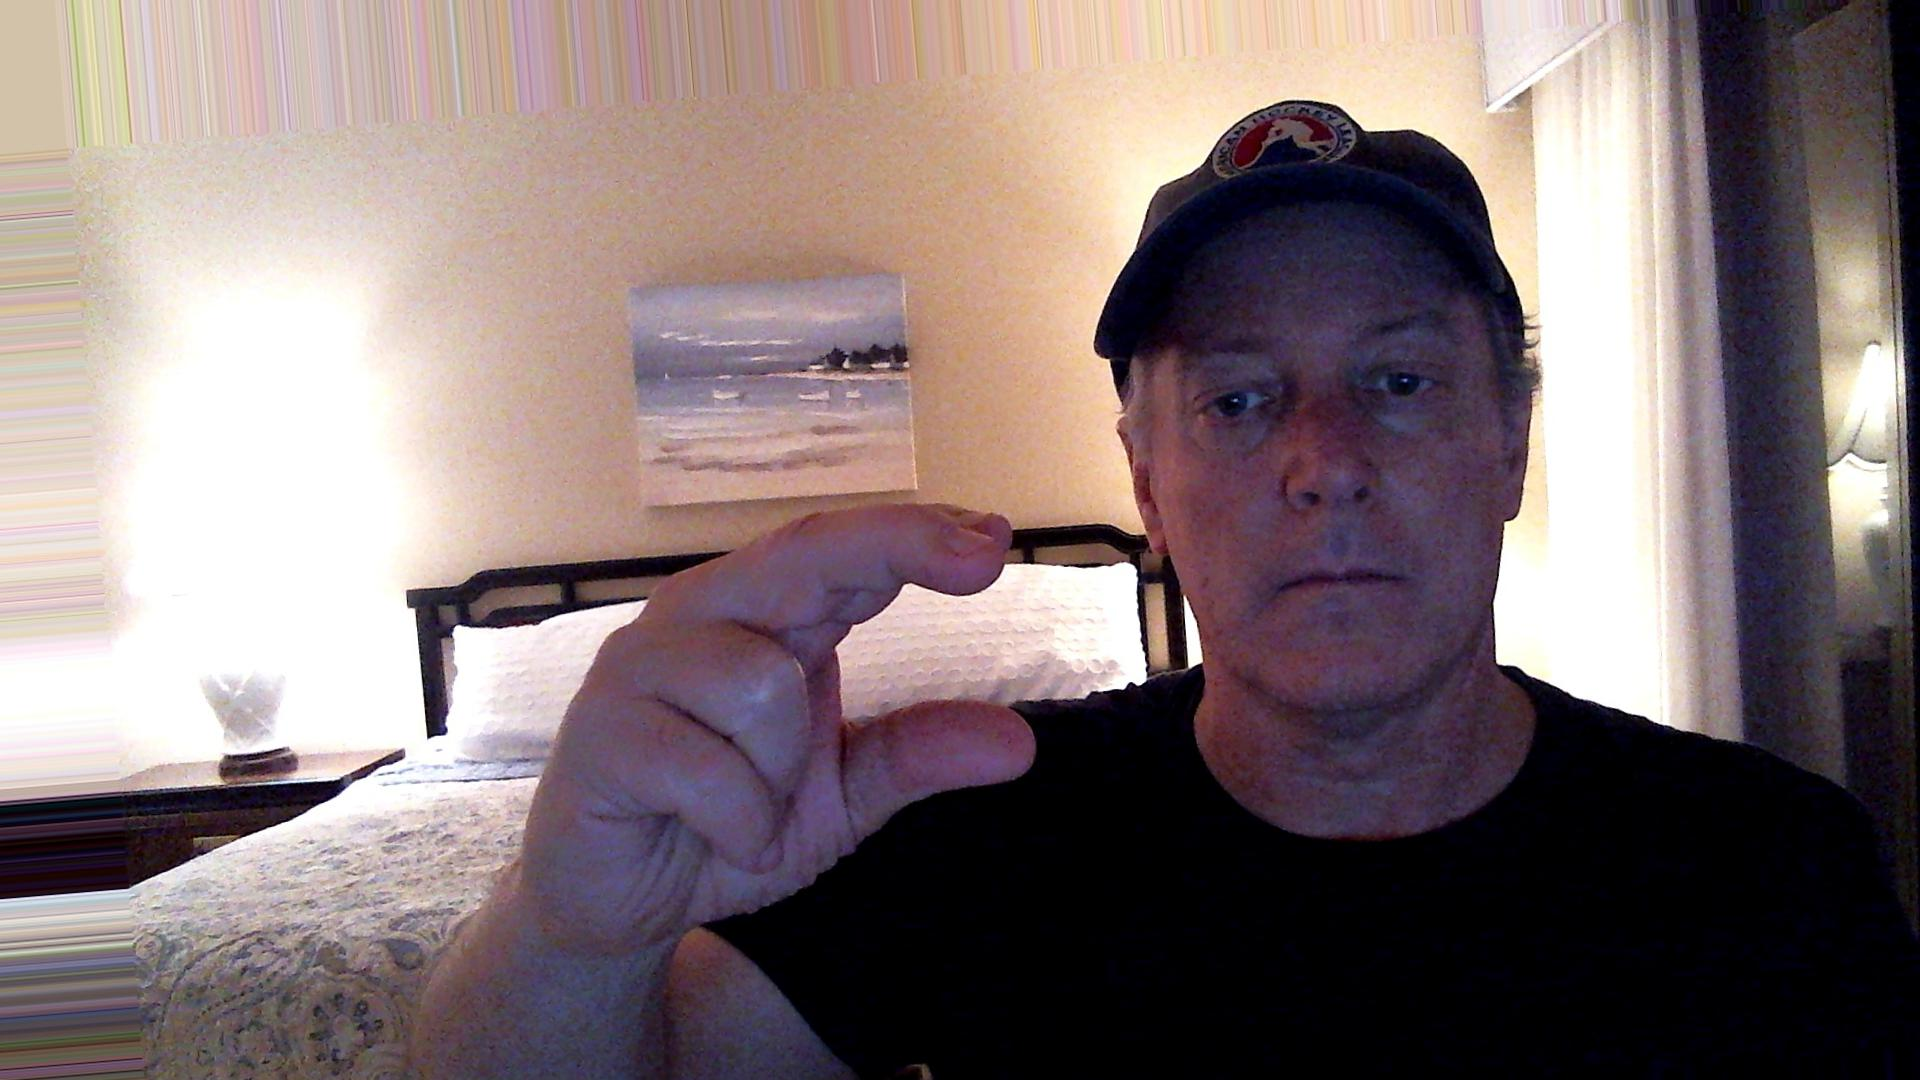No: (505, 465, 1097, 968)
